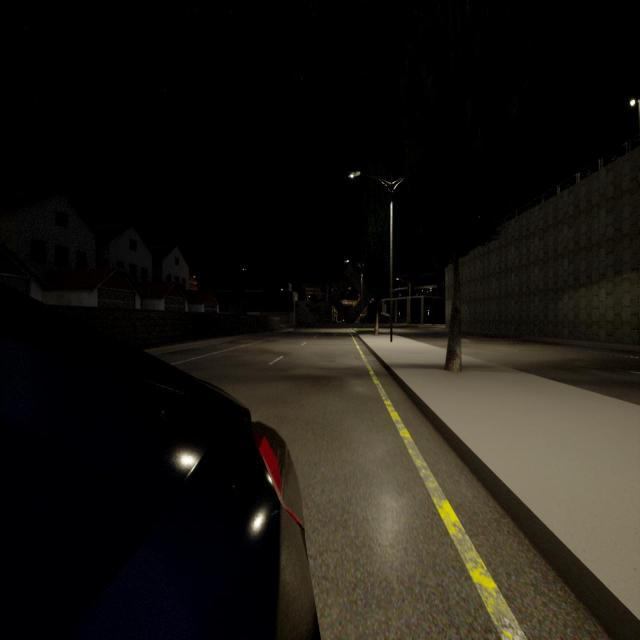Vehicle: (0, 298, 316, 637)
